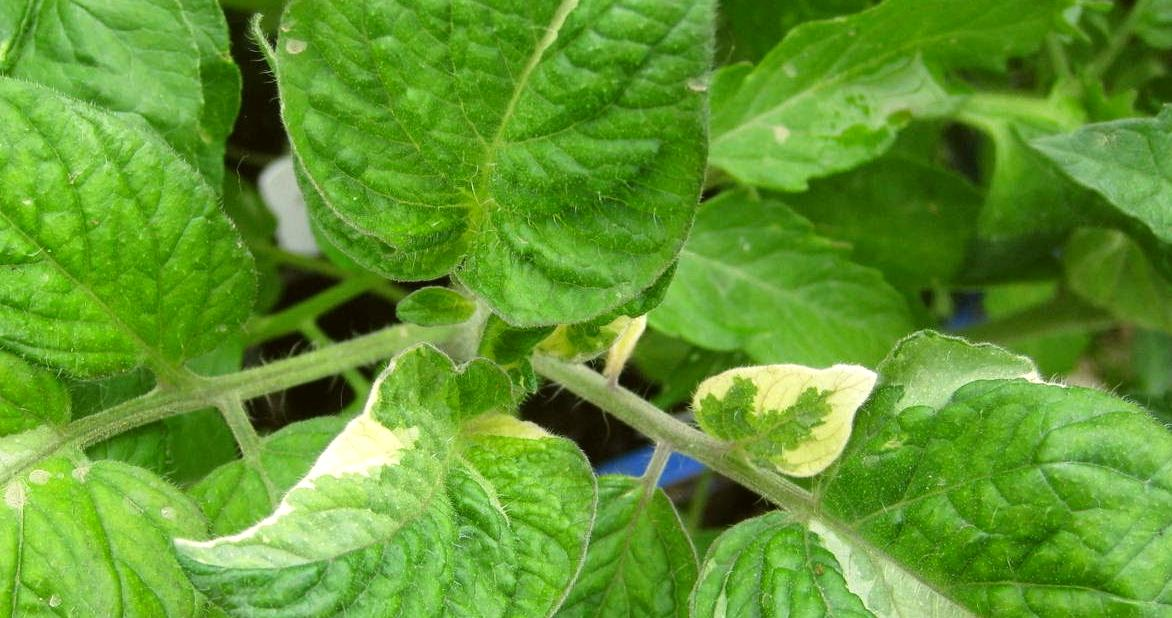Tomato leaf: (267, 0, 728, 338), (0, 66, 248, 357), (1022, 76, 1172, 287)
